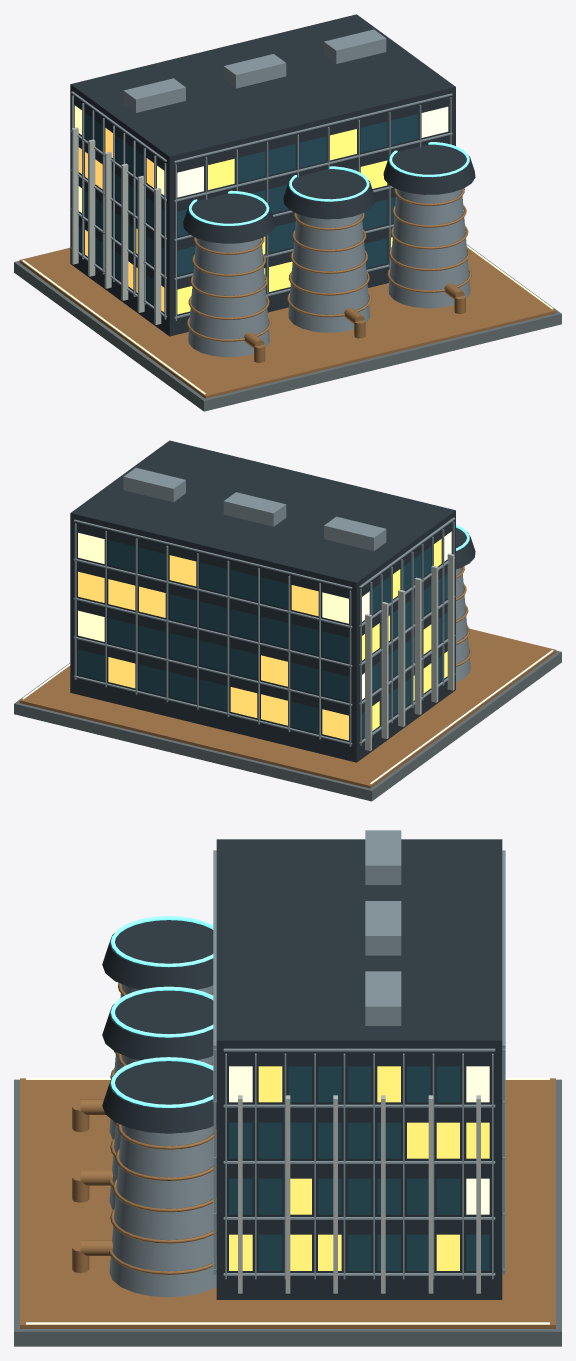
Rendered from compute-foundry.lod1.glb.
The picture shows the model from 3 angles, top to bottom: view 1: azimuth 30°, elevation 25°; view 2: azimuth 150°, elevation 25°; view 3: azimuth 270°, elevation 25°; orthographic projection. The views are drawn at different scales.
Visible parts, largest first — view 1: structure; view 2: structure; view 3: structure.
Part boxes in pixels (x1,y1,x2,y2): structure: [14, 14, 561, 411]; structure: [14, 440, 561, 801]; structure: [14, 830, 561, 1346].
Bounding box in the file's own units: 25 × 14 × 23.
